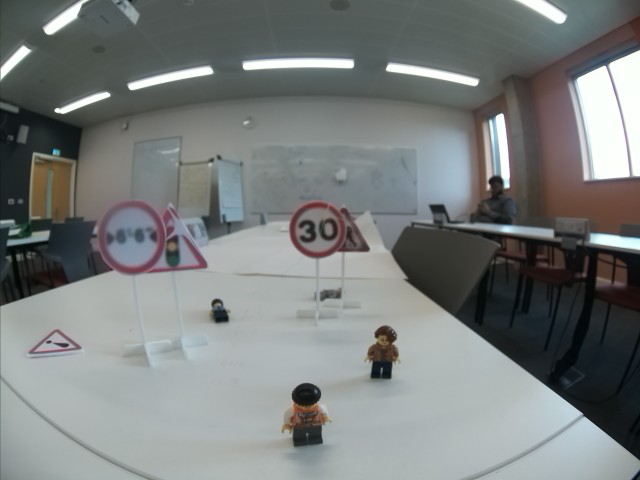30mph: (288, 199, 346, 259)
6ft6: (99, 200, 164, 273)
Lego Man: (280, 380, 333, 450), (363, 325, 403, 379), (205, 296, 233, 327), (315, 285, 343, 301)
Roadworks: (336, 207, 371, 255)
Traffic lights: (153, 199, 209, 268)
Warning: (23, 326, 85, 358)
